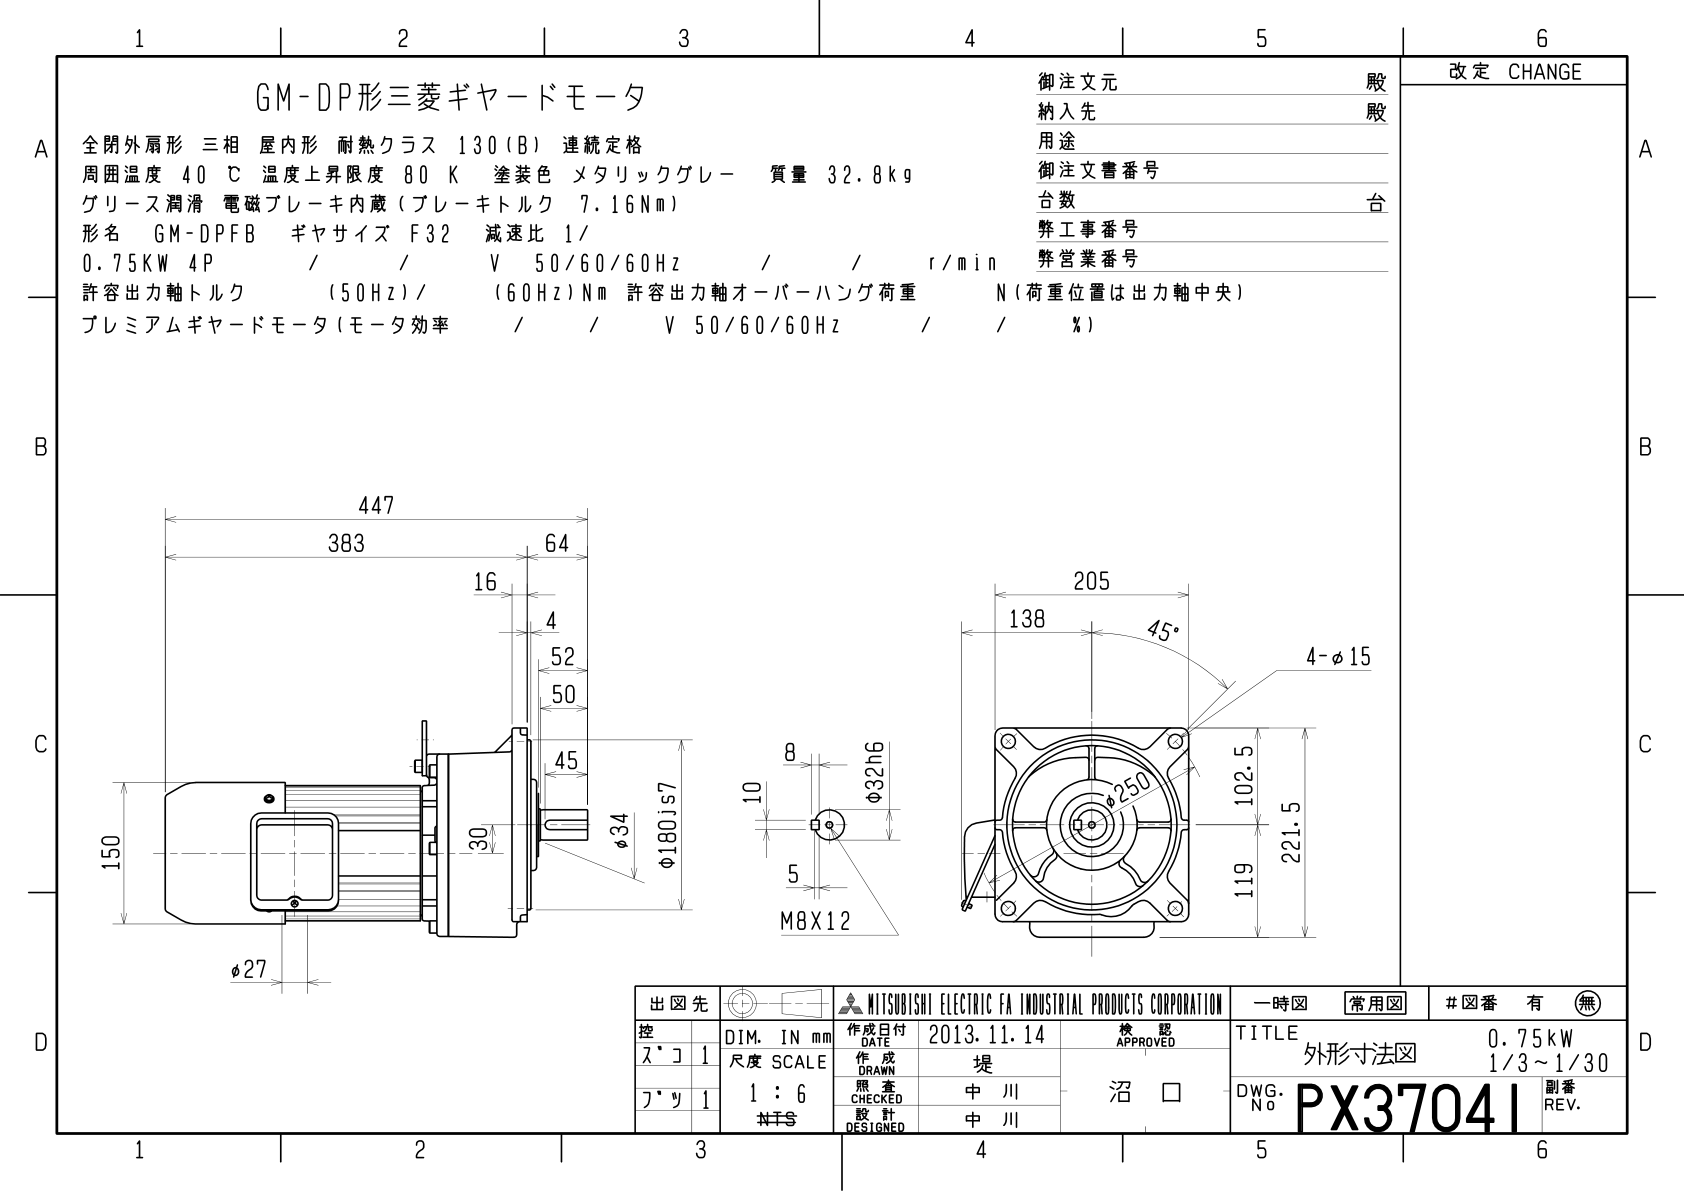GM_DP_屋内_三相_フランジ: (1, 1, 1666, 1170)
